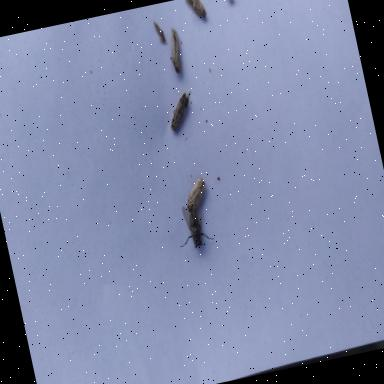pbw: (164, 90, 198, 131), (164, 27, 186, 75), (181, 177, 210, 213), (185, 0, 208, 21)
